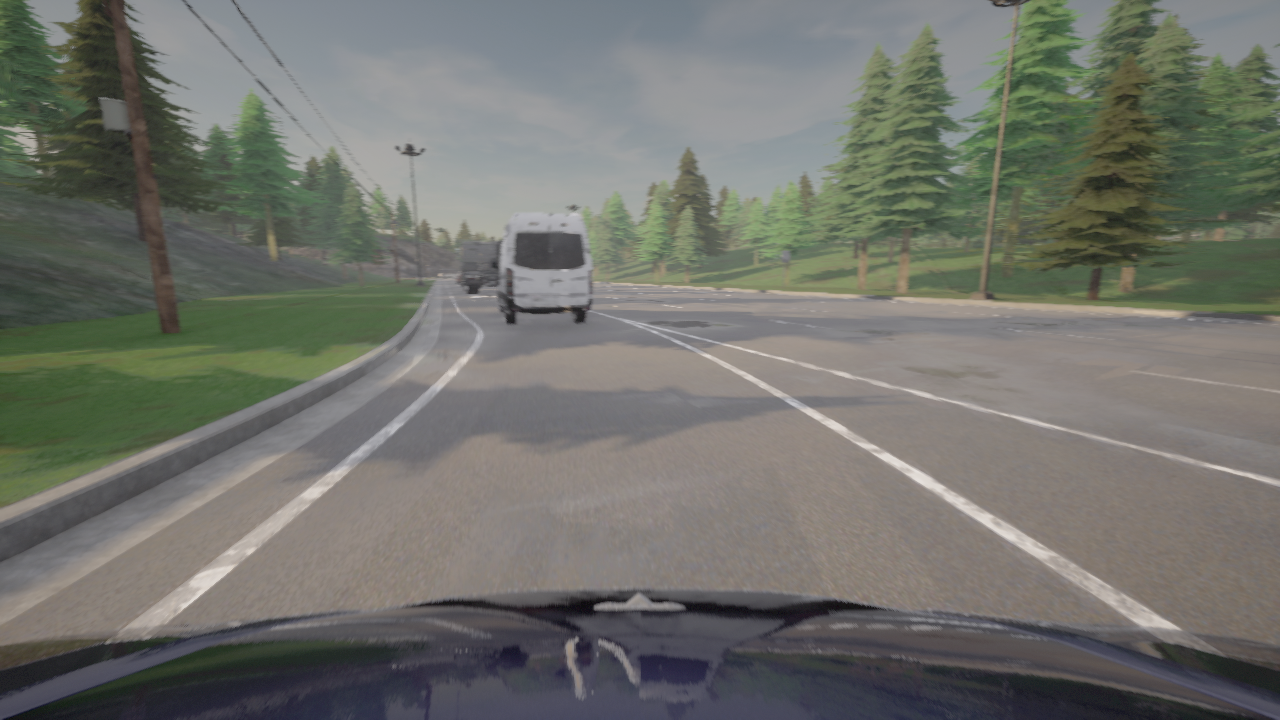cyclist: (0, 588, 1279, 719), (492, 212, 593, 324), (456, 240, 501, 294), (455, 271, 461, 284)
